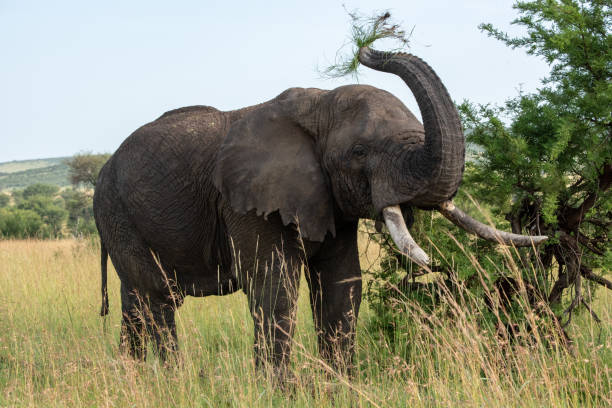africanelephant: (326, 91, 497, 264)
